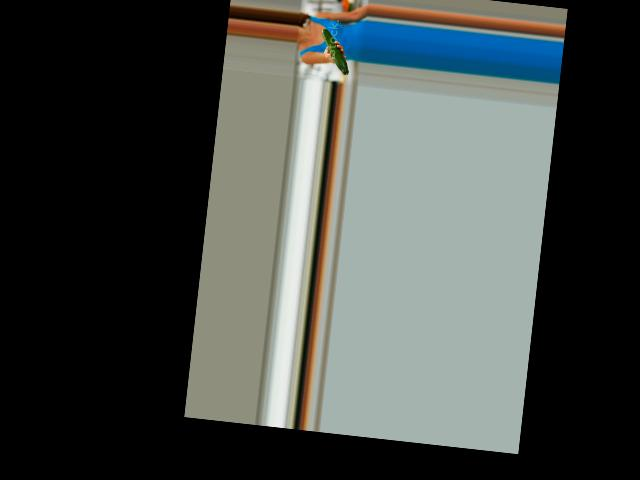cucumber: (318, 28, 353, 74)
